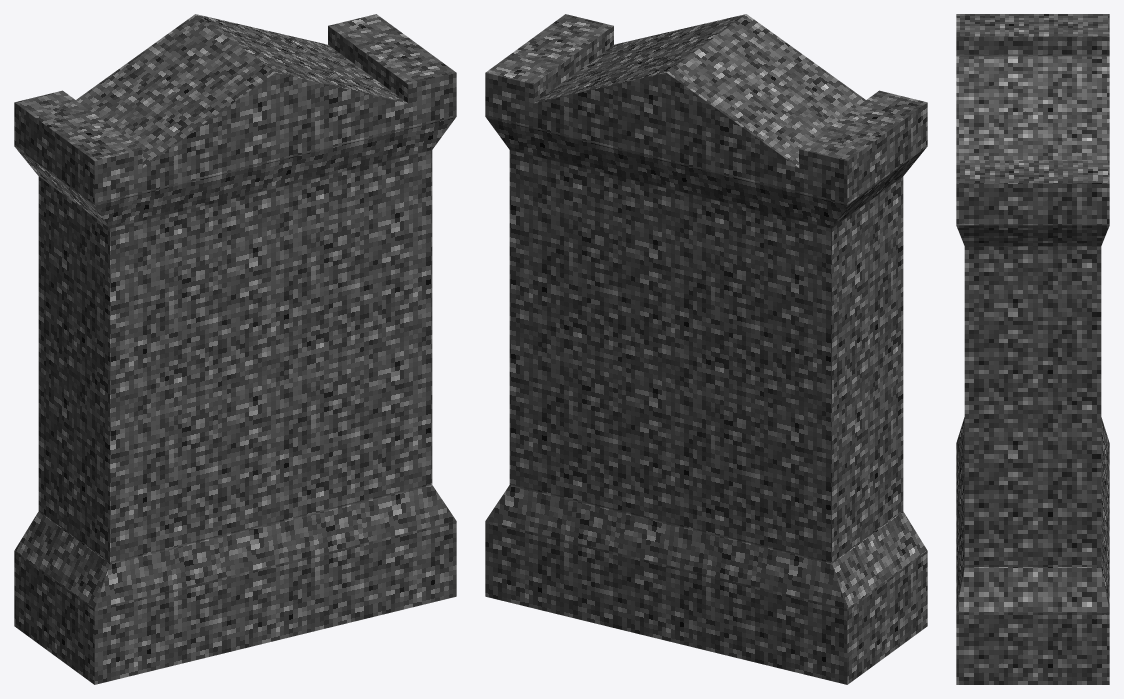
File: tombstone1.glb
3 views of the same model, side by side, from view 1: azimuth 30°, elevation 25°; view 2: azimuth 150°, elevation 25°; view 3: azimuth 270°, elevation 25° (orthographic). The views are drawn at different scales.
Visible parts, largest first — view 1: gravestoneDecorative; view 2: gravestoneDecorative; view 3: gravestoneDecorative.
Boxes of the visible parts, x1=… form: gravestoneDecorative: x1=14, y1=14, x2=456, y2=684; gravestoneDecorative: x1=485, y1=14, x2=927, y2=684; gravestoneDecorative: x1=956, y1=14, x2=1109, y2=684.
Size of the model in its own units: 0.39 by 0.585 by 0.1495.
Materials: 1 (1 with a texture image).
